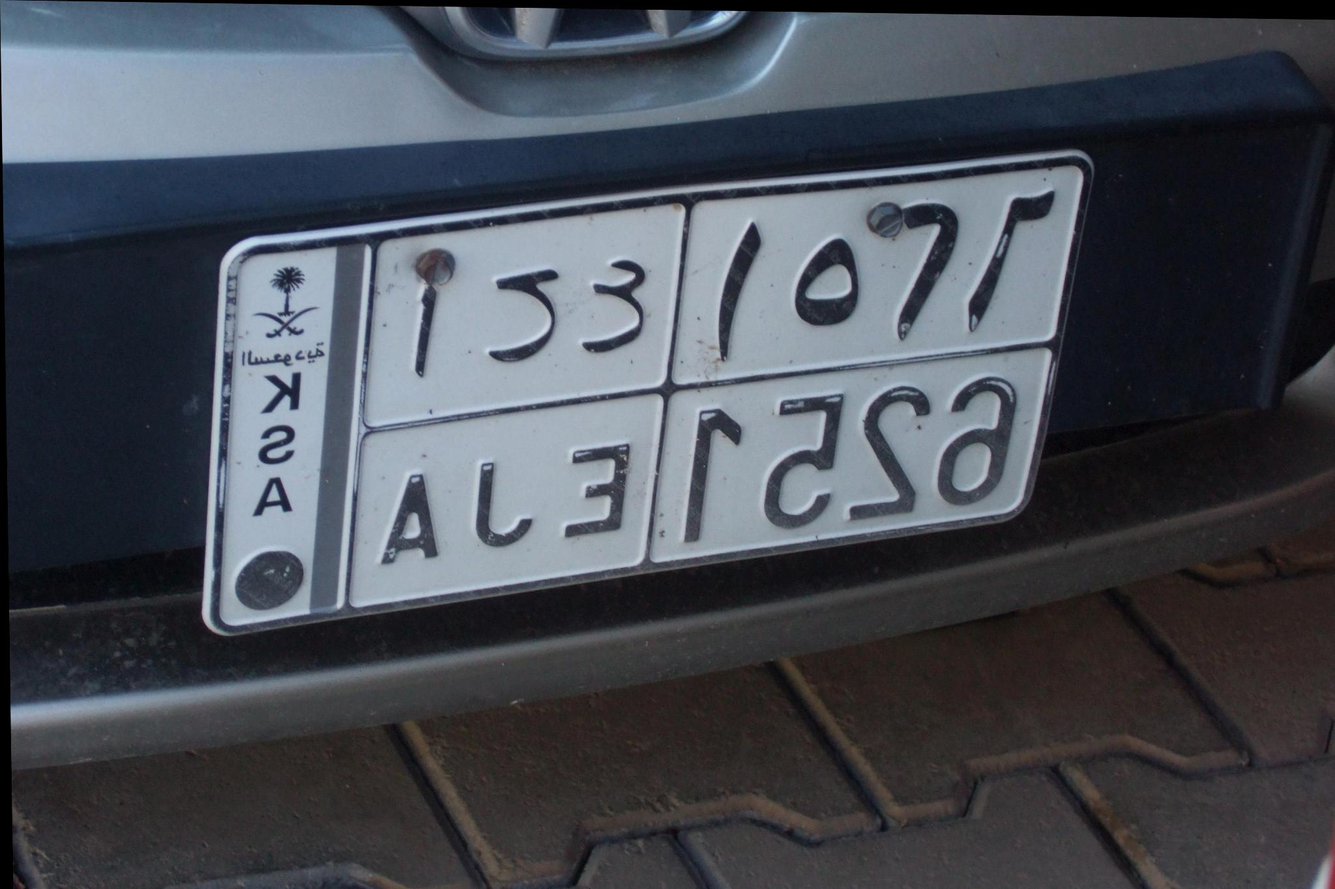License_Plate: (141, 122, 1110, 683)
